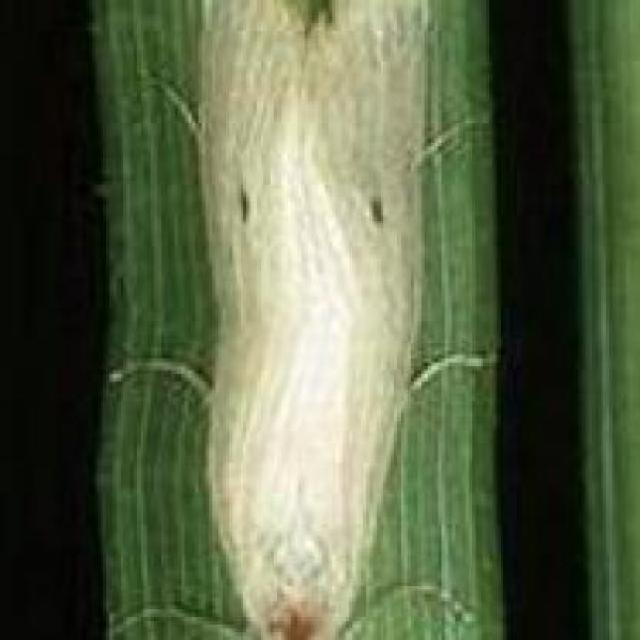stem-borer: (170, 0, 458, 640)
